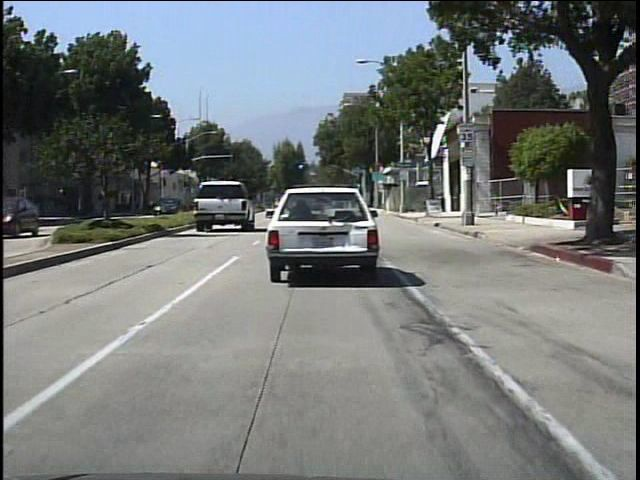person: (104, 194, 111, 220), (149, 196, 158, 216)
